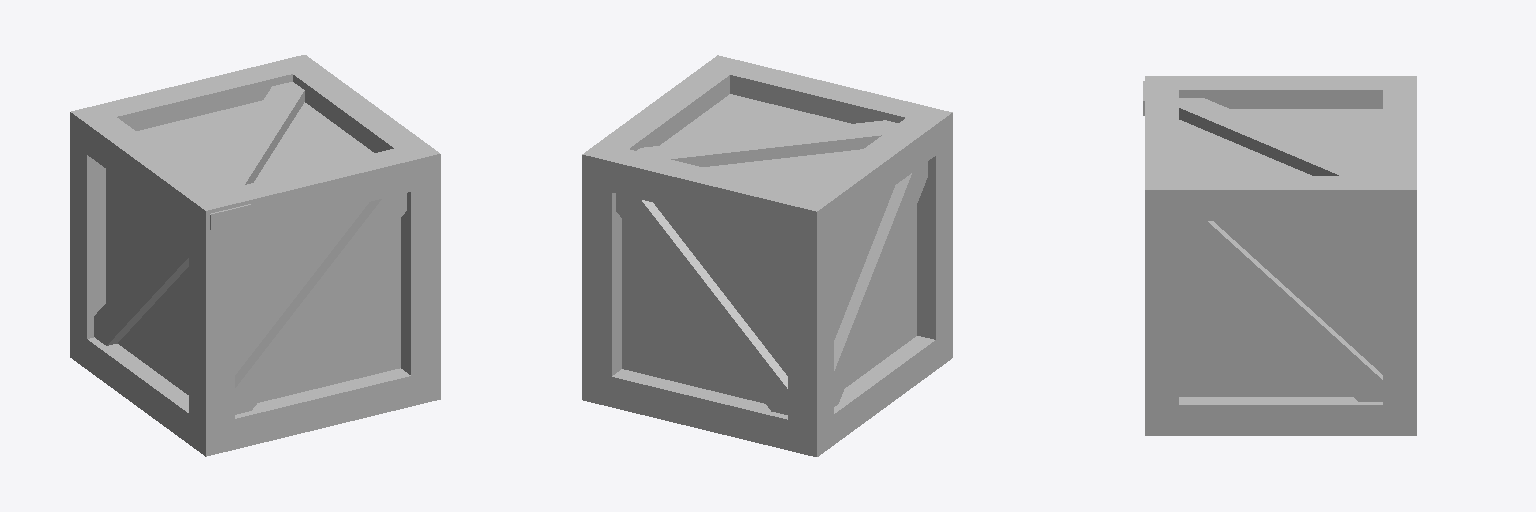
File: crate.obj
The picture shows the model from 3 angles: view 1: azimuth 30°, elevation 25°; view 2: azimuth 150°, elevation 25°; view 3: azimuth 270°, elevation 25°; orthographic projection.
Parts seen in each view (by area): view 1: cube; view 2: cube; view 3: cube.
Boxes of the visible parts, x1=… form: cube: x1=70, y1=55, x2=440, y2=456; cube: x1=582, y1=55, x2=952, y2=456; cube: x1=1143, y1=76, x2=1416, y2=435.
Bounding box in the file's own units: 0.75 × 0.75 × 0.756.